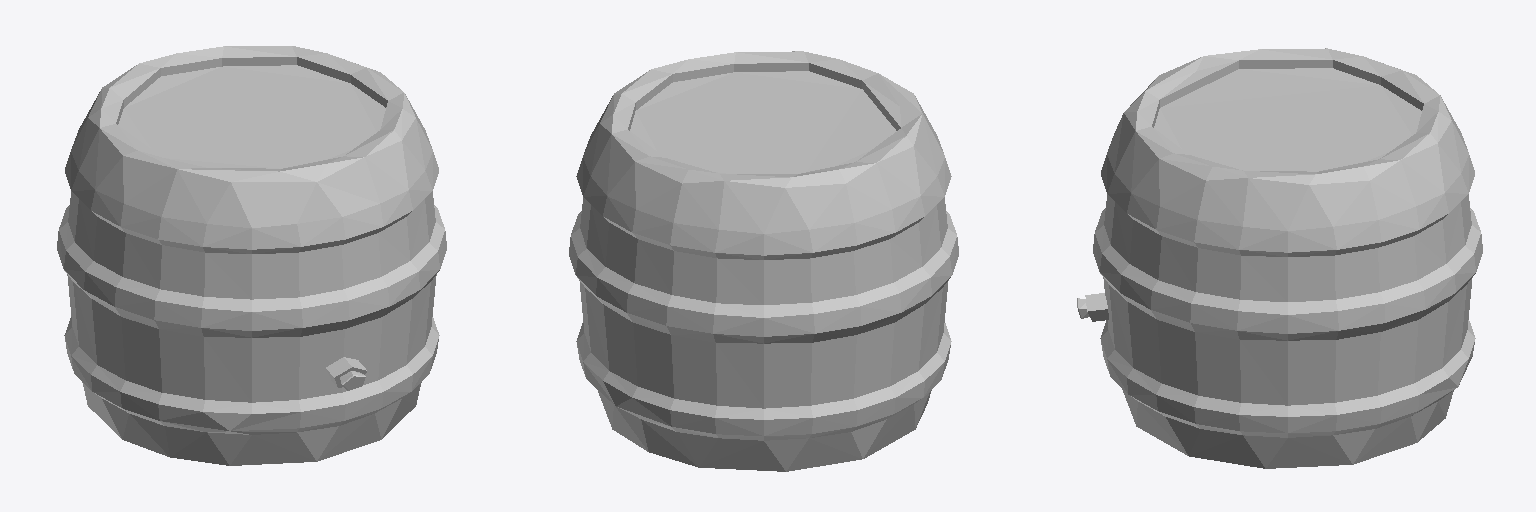
Rendered from kursi1.obj.
3 renders of one model, left to right at view 1: azimuth 30°, elevation 25°; view 2: azimuth 150°, elevation 25°; view 3: azimuth 270°, elevation 25°, orthographic.
Visible parts, largest first — view 1: Barrel_01_Cylinder.001; view 2: Barrel_01_Cylinder.001; view 3: Barrel_01_Cylinder.001.
Boxes of the visible parts, x1=… form: Barrel_01_Cylinder.001: x1=57, y1=46, x2=446, y2=465; Barrel_01_Cylinder.001: x1=569, y1=51, x2=958, y2=471; Barrel_01_Cylinder.001: x1=1077, y1=48, x2=1482, y2=468.
Size of the model in its own units: 2.62 by 2.15 by 2.74.